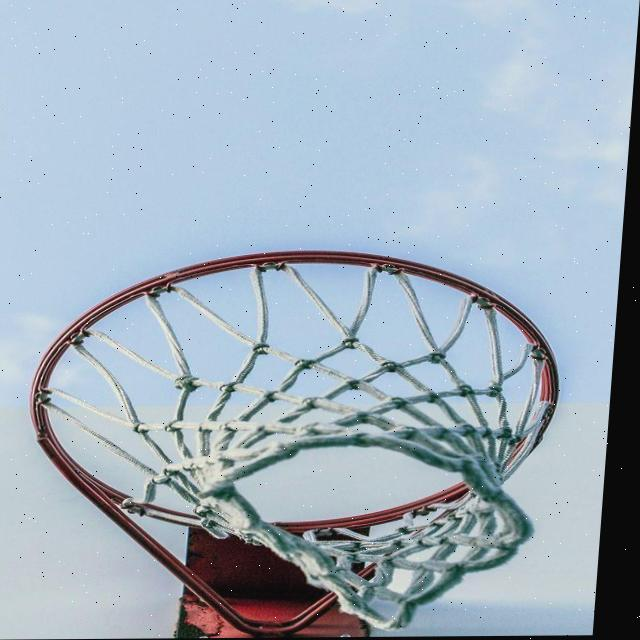hoop: (10, 235, 574, 620)
